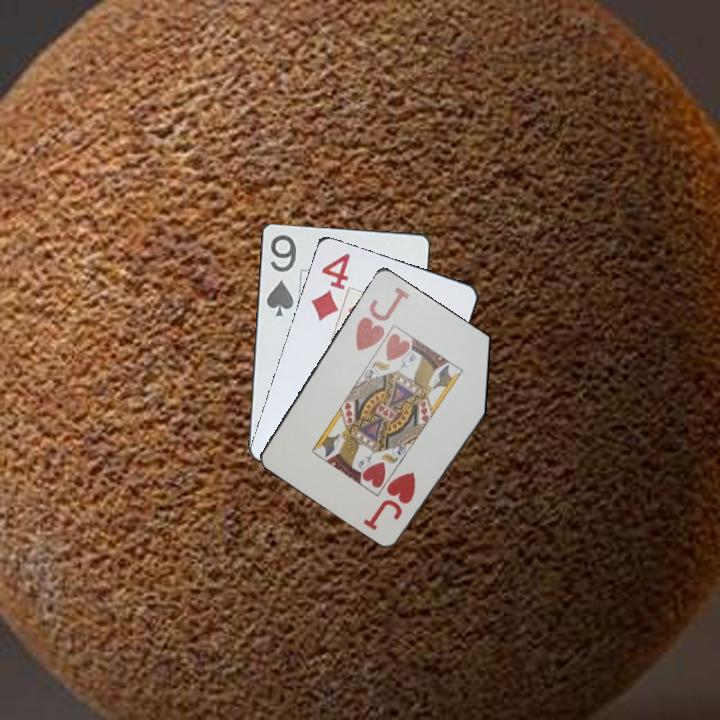4d: (307, 249, 353, 324)
9s: (263, 231, 299, 319)
Jh: (352, 283, 412, 354), (362, 467, 419, 533)
